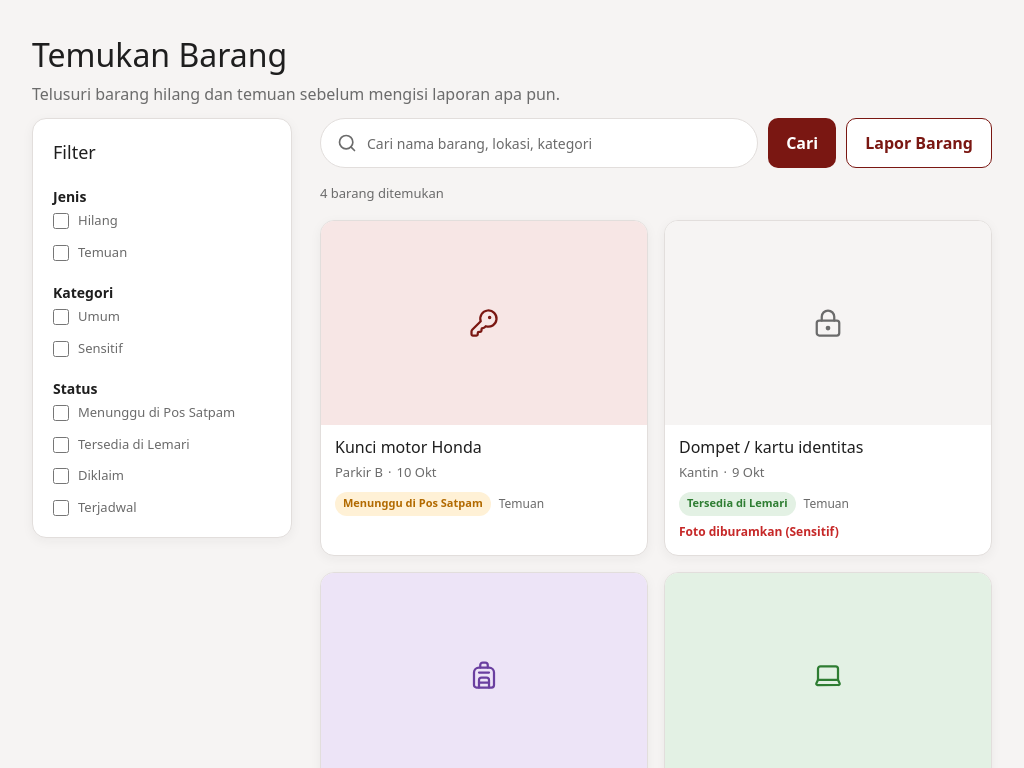
Test case: CatalogPage › filters by desktop type, category, and status groups
Step 1. Click the checkbox labelled "Temuan" → click(61, 253), box left=53, top=245, right=69, bottom=261
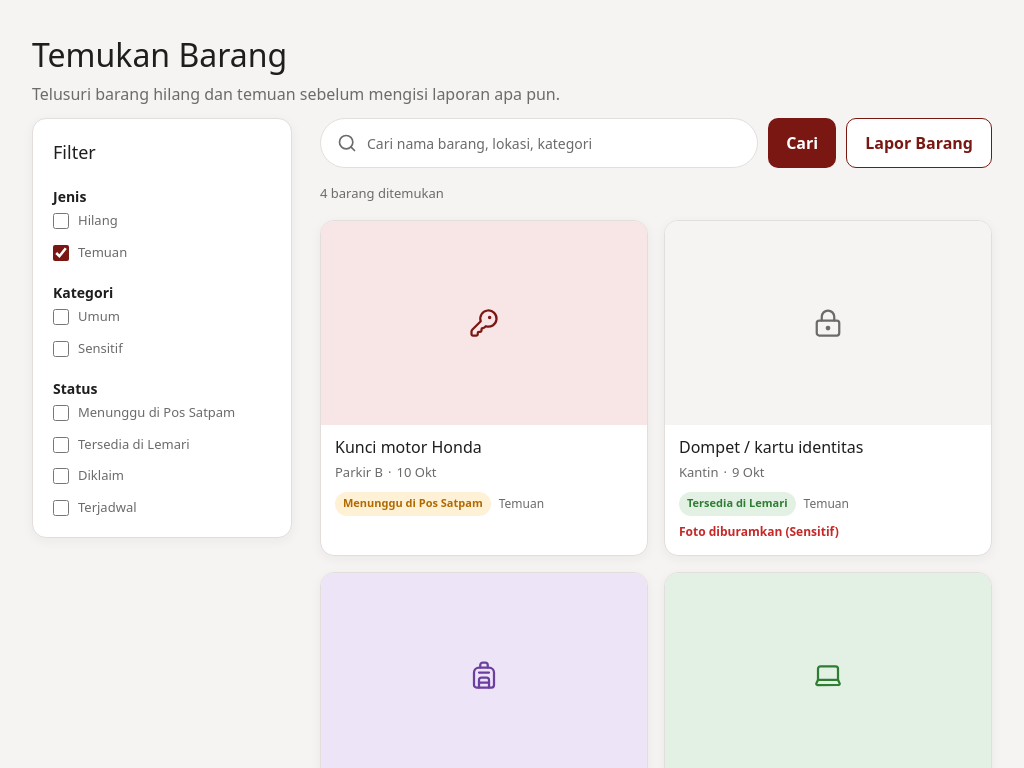
Step 2. Click the checkbox labelled "Sensitif" → click(61, 349), box left=53, top=341, right=69, bottom=357
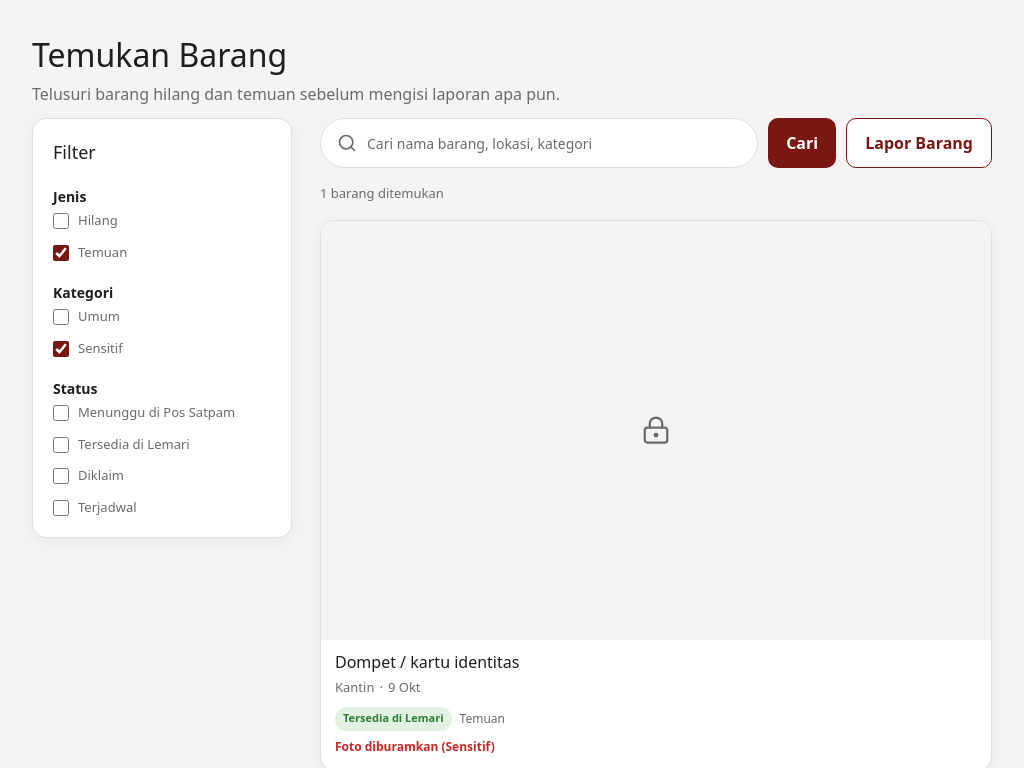
Expected: the heading "Dompet / kartu identitas" is shown, left=335, top=651, right=519, bottom=673
Step 3. Click the checkbox labelled "Diklaim" → click(61, 476), box left=53, top=468, right=69, bottom=484
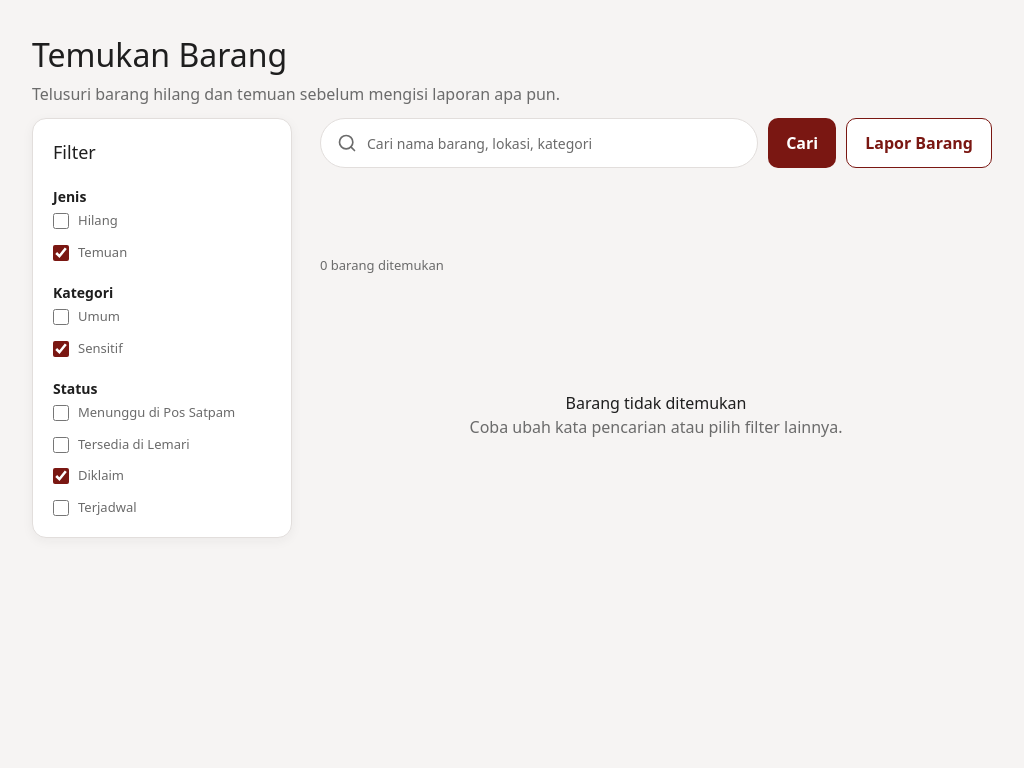
Expected: the heading "Barang tidak ditemukan" is shown, left=566, top=392, right=746, bottom=414
